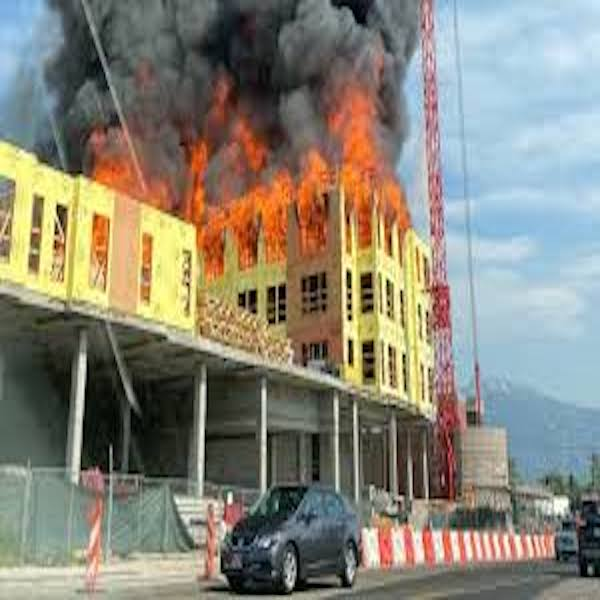fire: (190, 119, 335, 261), (84, 98, 180, 203), (341, 117, 413, 244)
